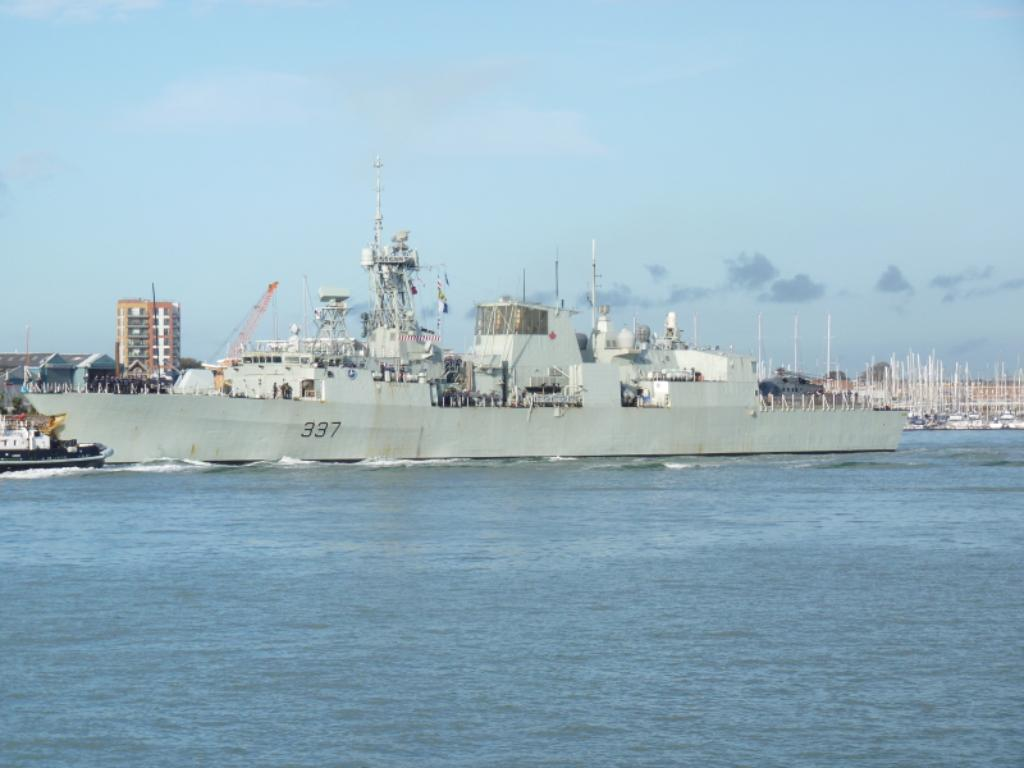Warship: (24, 154, 912, 476)
